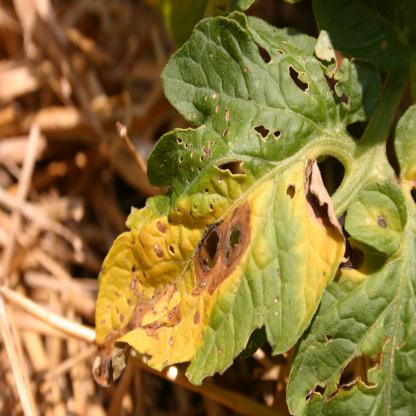tomato early blight leaf: (80, 58, 323, 382)
